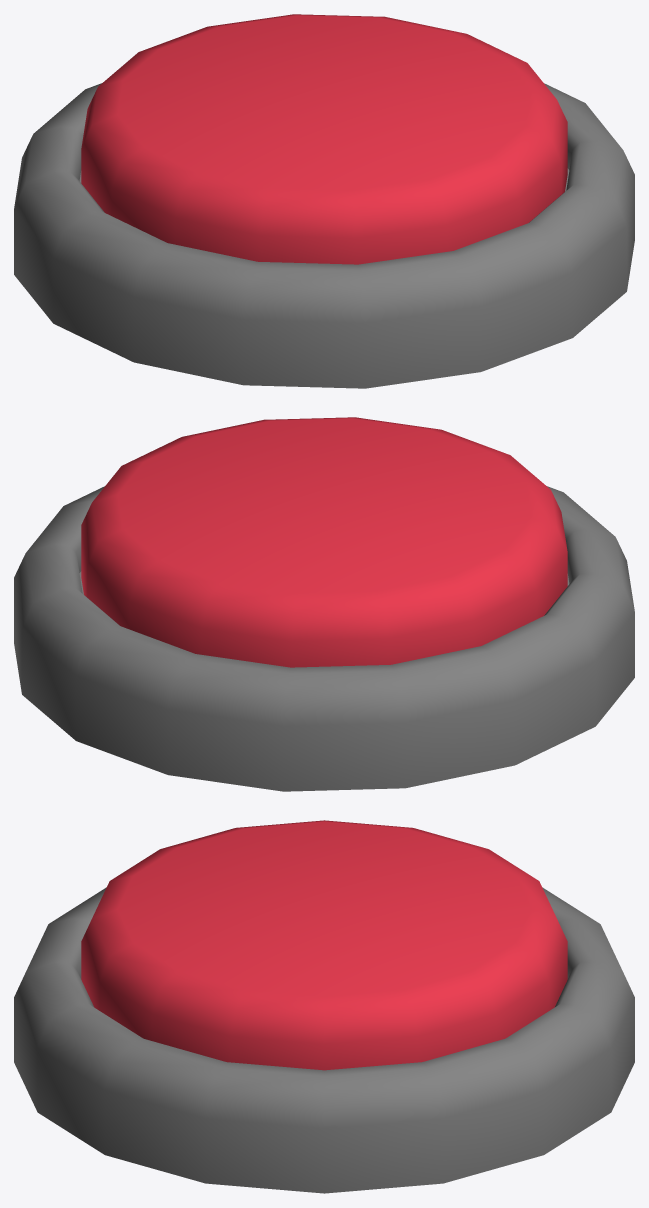
File: Button.fbx
3 renders of one model, top to bottom at view 1: azimuth 30°, elevation 25°; view 2: azimuth 150°, elevation 25°; view 3: azimuth 270°, elevation 25°, orthographic.
Parts seen in each view (by area): view 1: Cylinder.001, Cylinder; view 2: Cylinder.001, Cylinder; view 3: Cylinder.001, Cylinder.
Boxes of the visible parts, x1,y1,x2,y2 form: Cylinder.001: [81, 14, 567, 264]; Cylinder: [14, 83, 634, 388]; Cylinder.001: [81, 417, 567, 667]; Cylinder: [14, 486, 634, 791]; Cylinder.001: [81, 820, 567, 1070]; Cylinder: [14, 887, 634, 1193].
Size of the model in its own units: 56.53 by 15.38 by 56.53.
